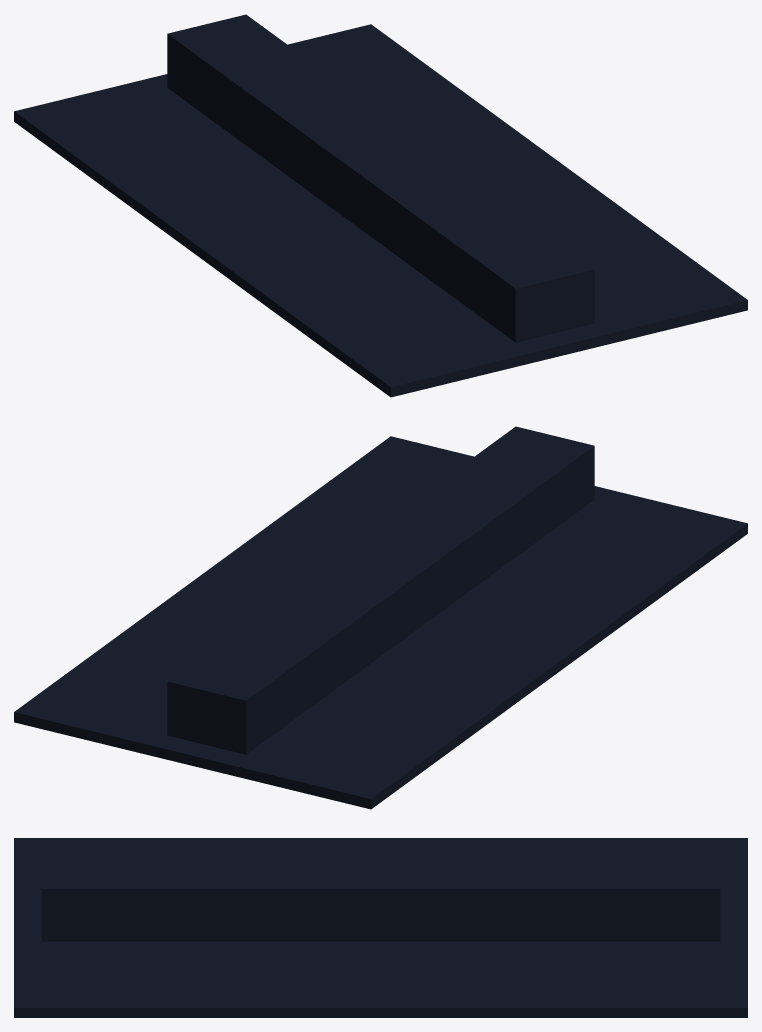
File: floor_pan.glb
The picture shows the model from 3 angles, top to bottom: view 1: azimuth 30°, elevation 25°; view 2: azimuth 150°, elevation 25°; view 3: azimuth 270°, elevation 25°; orthographic projection. The views are drawn at different scales.
Parts seen in each view (by area): view 1: Floor_Pan_Primary_Tub, Torque_Tunnel_Enclosure; view 2: Floor_Pan_Primary_Tub, Torque_Tunnel_Enclosure; view 3: Floor_Pan_Primary_Tub, Torque_Tunnel_Enclosure.
Boxes of the visible parts, x1,y1,x2,y2 form: Floor_Pan_Primary_Tub: (14, 24, 747, 397); Torque_Tunnel_Enclosure: (167, 14, 594, 342); Floor_Pan_Primary_Tub: (14, 436, 747, 809); Torque_Tunnel_Enclosure: (167, 426, 594, 754); Floor_Pan_Primary_Tub: (14, 838, 747, 1017); Torque_Tunnel_Enclosure: (41, 851, 720, 941).
Size of the model in its own units: 1.45 by 0.25 by 2.65.
